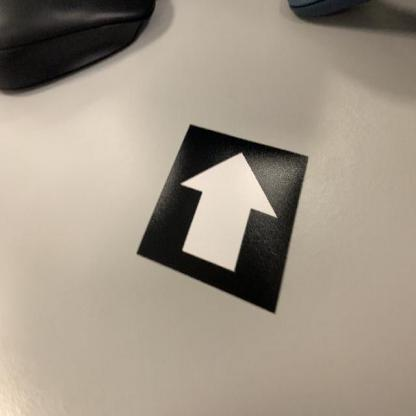up: (135, 121, 311, 321)
